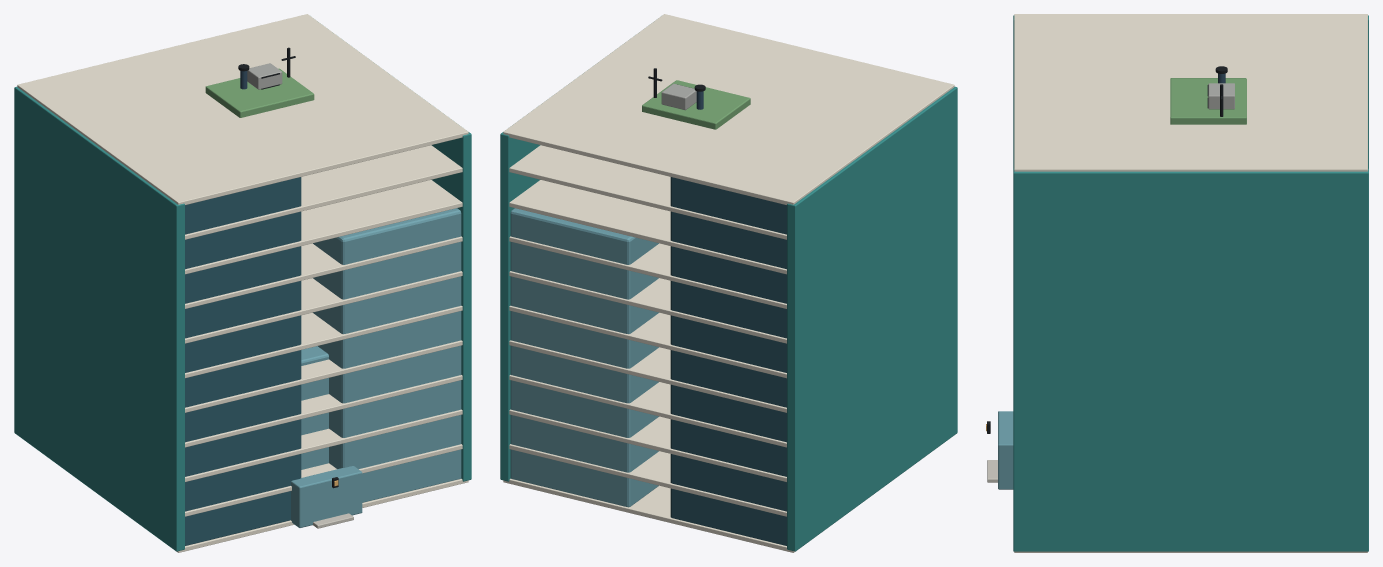
Rendered from OFF_MID_3x3_003.glb.
3 renders of one model, left to right at view 1: azimuth 30°, elevation 25°; view 2: azimuth 150°, elevation 25°; view 3: azimuth 270°, elevation 25°, orthographic. The views are drawn at different scales.
Parts seen in each view (by area): view 1: OFF_MID_3x3_003_Visual; view 2: OFF_MID_3x3_003_Visual; view 3: OFF_MID_3x3_003_Visual.
Boxes of the visible parts, x1,y1,x2,y2 form: OFF_MID_3x3_003_Visual: [14, 14, 471, 552]; OFF_MID_3x3_003_Visual: [500, 14, 957, 552]; OFF_MID_3x3_003_Visual: [986, 14, 1368, 552].
Size of what is drawn, in the model's own units: 5.36 by 6.68 by 5.49.
